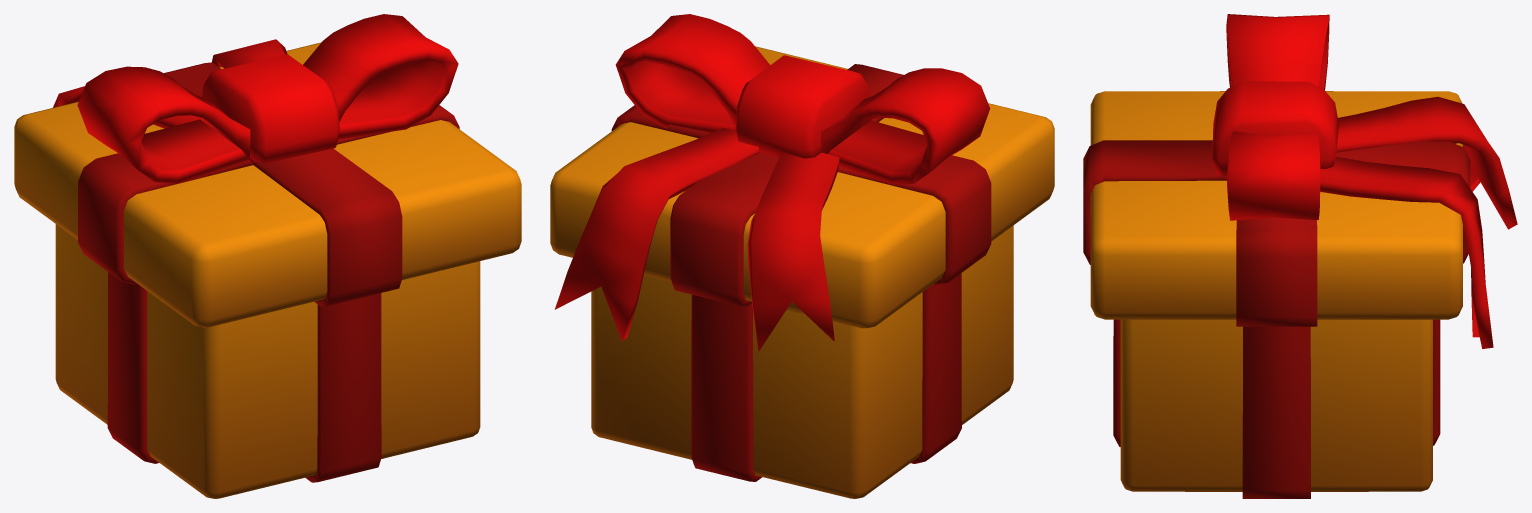
Rendered from Gift_Pack_V1_0.fbx.
3 views of the same model, side by side, from view 1: azimuth 30°, elevation 25°; view 2: azimuth 150°, elevation 25°; view 3: azimuth 270°, elevation 25° (orthographic). The views are drawn at different scales.
Visible parts, largest first — view 1: Gift_Pack_V1_0; view 2: Gift_Pack_V1_0; view 3: Gift_Pack_V1_0.
Boxes of the visible parts, x1,y1,x2,y2 form: Gift_Pack_V1_0: (14,14,521,498); Gift_Pack_V1_0: (550,14,1054,498); Gift_Pack_V1_0: (1083,14,1517,498).
Size of the model in its own units: 0.3723 by 0.3801 by 0.4178.
